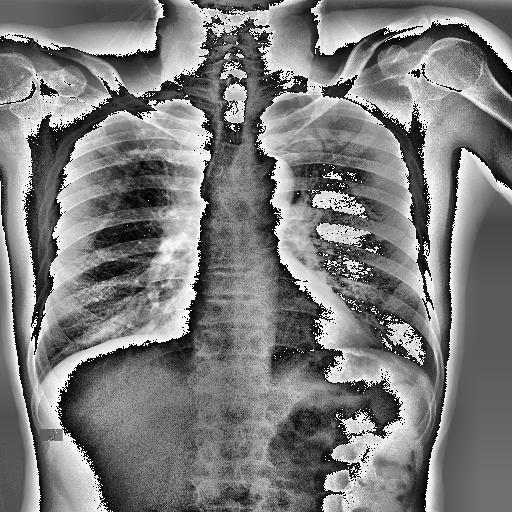11- Pleural thickening: (160, 96, 216, 131)
13- Pulmonary fibrosis: (103, 129, 187, 199), (86, 138, 170, 186), (297, 106, 353, 150), (108, 146, 158, 166), (336, 130, 352, 142)
6- Infiltration: (297, 106, 353, 150)
